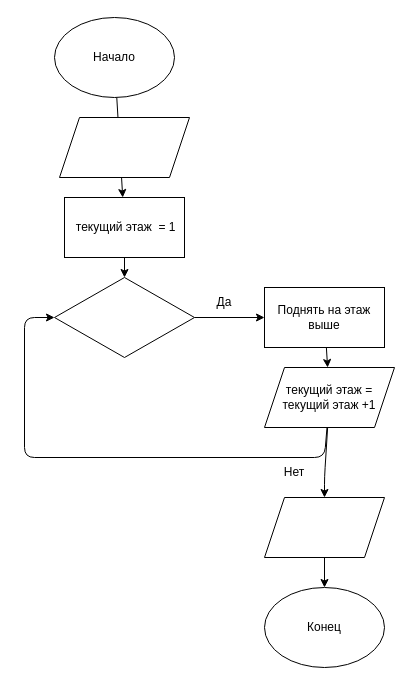
Image size: 412x685. Some labels were removed from this diagram. The shapes that lost their labels are listed below. From the top down, each one's centre as x and y in pixels, then its label:
At pixel 124 147: "Ввод: целевой этаж (N)".
At pixel 124 317: "текуший этаж < N?".
At pixel 324 527: "Вы на целевом этаже".
